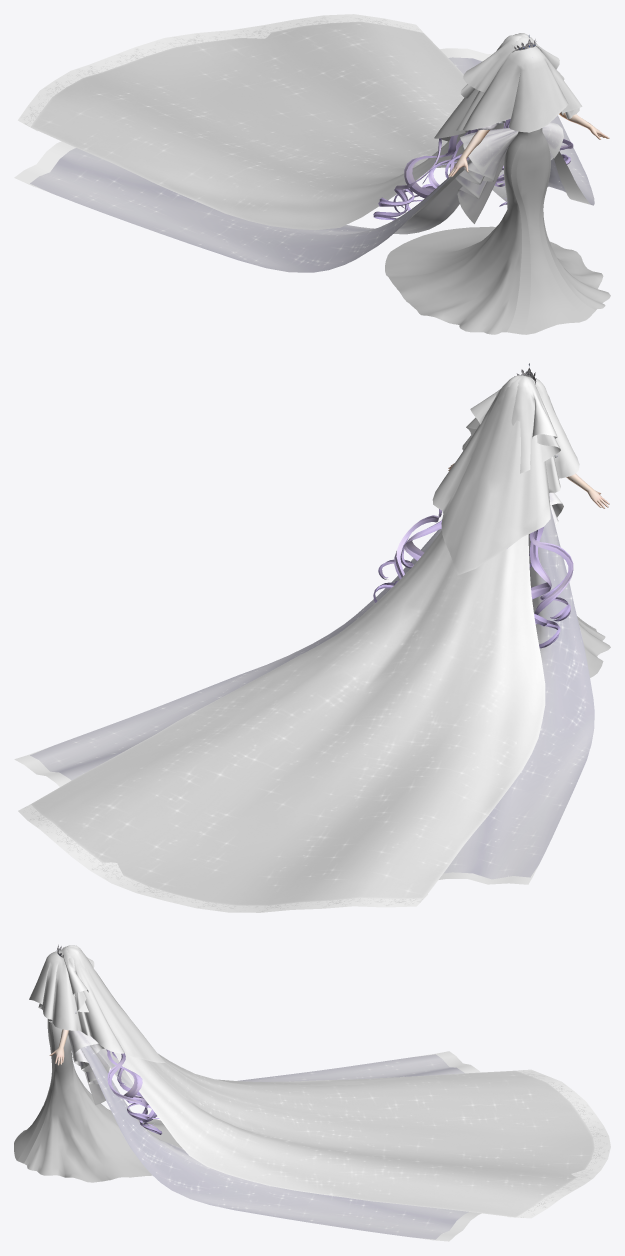
File: Girl_01645.fbx
3 renders of one model, top to bottom at view 1: azimuth 30°, elevation 25°; view 2: azimuth 150°, elevation 25°; view 3: azimuth 270°, elevation 25°, orthographic. The views are drawn at different scales.
Parts seen in each view (by area): view 1: Hair_02, Top, Bottom, Hair; view 2: Hair_02, Top, Hair, Bottom; view 3: Hair_02, Top, Bottom, Hair.
Boxes of the visible parts, x1,y1,x2,y2 form: Hair_02: (30, 21, 582, 230); Top: (14, 48, 609, 272); Bottom: (385, 128, 610, 334); Hair: (18, 14, 573, 220); Hair_02: (31, 375, 579, 905); Top: (14, 454, 609, 884); Hair: (18, 363, 573, 912); Bottom: (577, 616, 610, 677); Hair_02: (29, 945, 594, 1217); Top: (49, 1010, 481, 1241); Bottom: (14, 1019, 182, 1182); Hair: (56, 944, 610, 1218).
Bounding box in the file's own units: 7.32 × 3.75 × 9.69.
